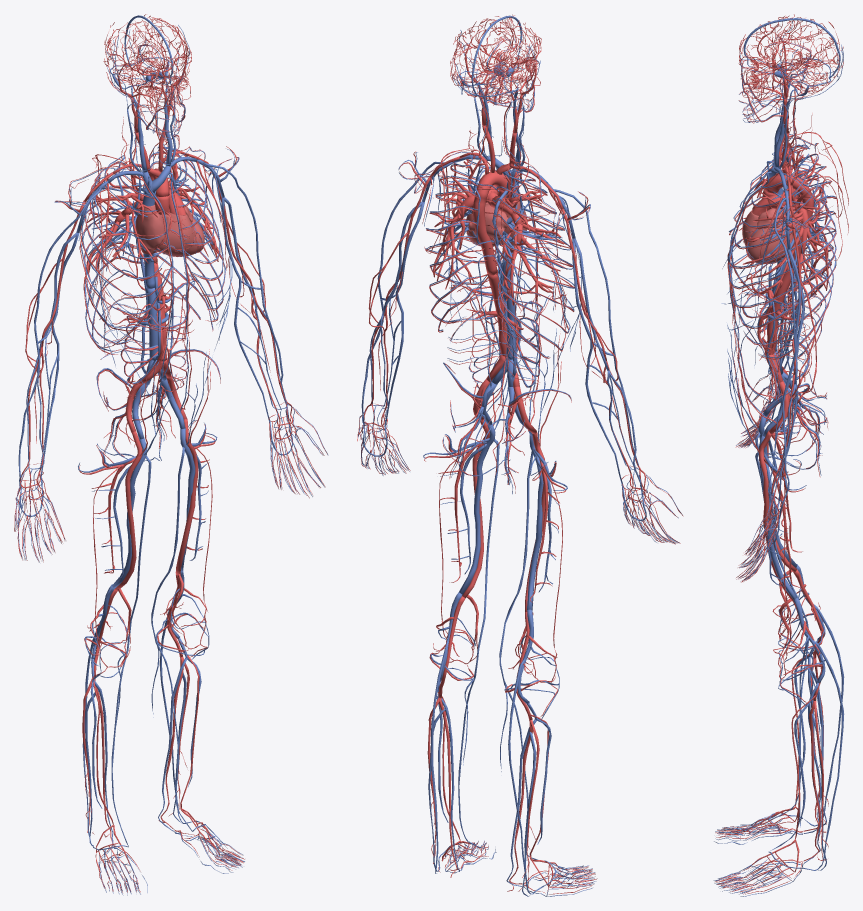
File: cardiovascular.glb
3 views of the same model, side by side, from view 1: azimuth 30°, elevation 25°; view 2: azimuth 150°, elevation 25°; view 3: azimuth 270°, elevation 25° (orthographic). The views are drawn at different scales.
Parts seen in each view (by area): view 1: veins-of-right-lower-limb, veins-of-left-lower-limb, veins-of-thorax, arteries-of-right-lower-limb, veins-of-right-upper-limb, arteries-of-left-lower-limb, veins-of-left-upper-limb, arteries-of-thorax, arteries-of-right-upper-limb, pulmonary-arteries, arteries-of-left-upper-limb, heart (+13 smaller); view 2: veins-of-right-lower-limb, veins-of-left-lower-limb, veins-of-thorax, arteries-of-left-lower-limb, arteries-of-right-lower-limb, veins-of-right-upper-limb, pulmonary-arteries, veins-of-left-upper-limb, arteries-of-thorax, arteries-of-right-upper-limb, arteries-of-left-upper-limb, arteries-of-brain (+12 smaller); view 3: veins-of-left-lower-limb, arteries-of-left-lower-limb, veins-of-right-lower-limb, veins-of-left-upper-limb, veins-of-thorax, pulmonary-arteries, arteries-of-right-lower-limb, arteries-of-thorax, arteries-of-left-upper-limb, arteries-of-left-head-and-neck, arteries-of-brain, arteries-of-right-head-and-neck (+12 smaller).
Part boxes in pixels (x1,y1,x2,y2): veins-of-right-lower-limb: (78,366,171,895); veins-of-left-lower-limb: (151,352,244,873); veins-of-thorax: (81,147,225,373); arteries-of-right-lower-limb: (79,366,147,892); veins-of-right-upper-limb: (15,171,150,562); arteries-of-left-lower-limb: (157,349,244,870); veins-of-left-upper-limb: (170,149,328,496); arteries-of-thorax: (79,84,225,354); arteries-of-right-upper-limb: (14,163,147,562); pulmonary-arteries: (86,150,222,279); arteries-of-left-upper-limb: (162,146,326,498); heart: (134,203,204,256); veins-of-right-lower-limb: (499,328,596,896); veins-of-left-lower-limb: (423,325,520,873); veins-of-thorax: (425,156,574,388); arteries-of-left-lower-limb: (424,319,495,877); arteries-of-right-lower-limb: (505,333,597,894); veins-of-right-upper-limb: (516,169,682,543); pulmonary-arteries: (432,157,566,305); veins-of-left-upper-limb: (358,152,490,475); arteries-of-thorax: (425,92,574,358); arteries-of-right-upper-limb: (509,163,683,544); arteries-of-left-upper-limb: (357,151,488,474); arteries-of-brain: (451,14,541,95); veins-of-left-lower-limb: (713,349,844,896); arteries-of-left-lower-limb: (715,354,828,894); veins-of-right-lower-limb: (714,324,844,844); veins-of-left-upper-limb: (721,167,817,581); veins-of-thorax: (727,144,836,371); pulmonary-arteries: (739,149,828,299); arteries-of-right-lower-limb: (715,322,828,839); arteries-of-thorax: (727,84,836,359); arteries-of-left-upper-limb: (736,166,816,582); arteries-of-left-head-and-neck: (739,37,848,260); arteries-of-brain: (745,14,839,85); arteries-of-right-head-and-neck: (739,15,848,217).
Bounding box in the file's own units: 0.6641 × 1.7 × 0.2487.
